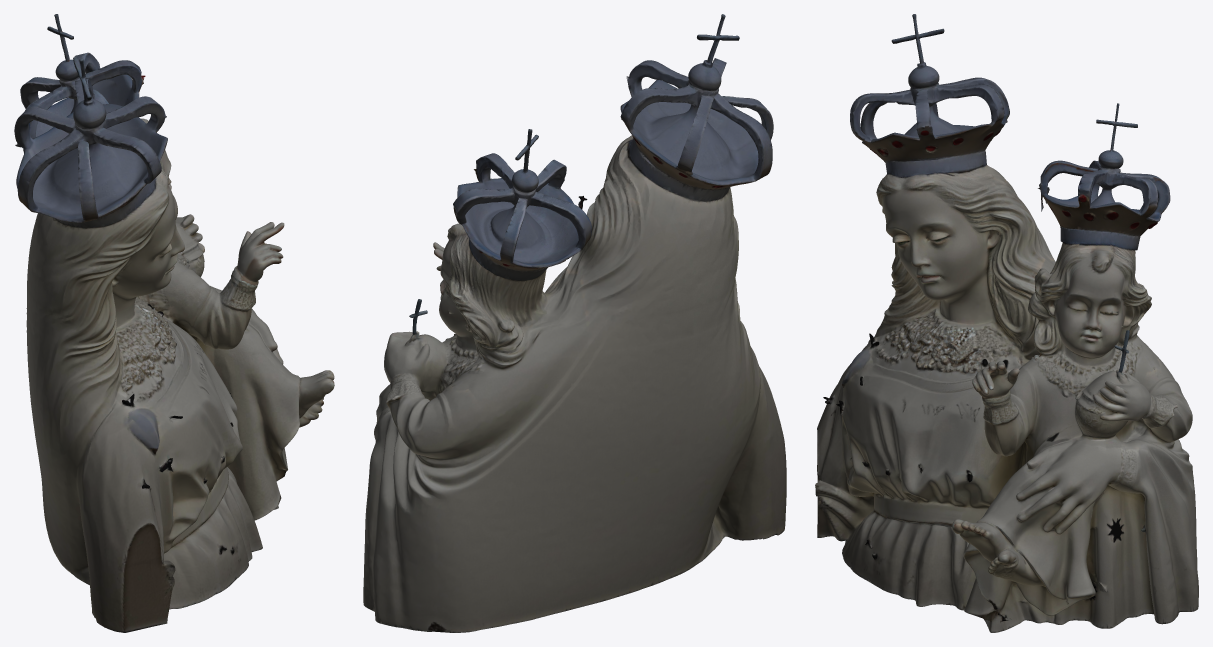
File: frentevirgen.glb
3 renders of one model, left to right at view 1: azimuth 30°, elevation 25°; view 2: azimuth 150°, elevation 25°; view 3: azimuth 270°, elevation 25°, orthographic. The views are drawn at different scales.
Visible parts, largest first — view 1: tripo_node_28dd44fa-3b57-4153-a63e-9f2f69cfc8f4; view 2: tripo_node_28dd44fa-3b57-4153-a63e-9f2f69cfc8f4; view 3: tripo_node_28dd44fa-3b57-4153-a63e-9f2f69cfc8f4.
Boxes of the visible parts, x1=… form: tripo_node_28dd44fa-3b57-4153-a63e-9f2f69cfc8f4: x1=14, y1=14, x2=334, y2=632; tripo_node_28dd44fa-3b57-4153-a63e-9f2f69cfc8f4: x1=363, y1=14, x2=786, y2=632; tripo_node_28dd44fa-3b57-4153-a63e-9f2f69cfc8f4: x1=815, y1=14, x2=1198, y2=632.
Bounding box in the file's own units: 0.6656 × 0.9965 × 0.6811.
Materials: 1 (1 with a texture image).
